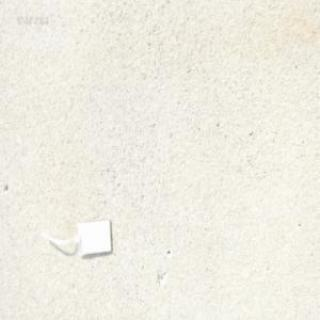LuggageTagtrack_idkeyframe: (41, 214, 114, 258)
